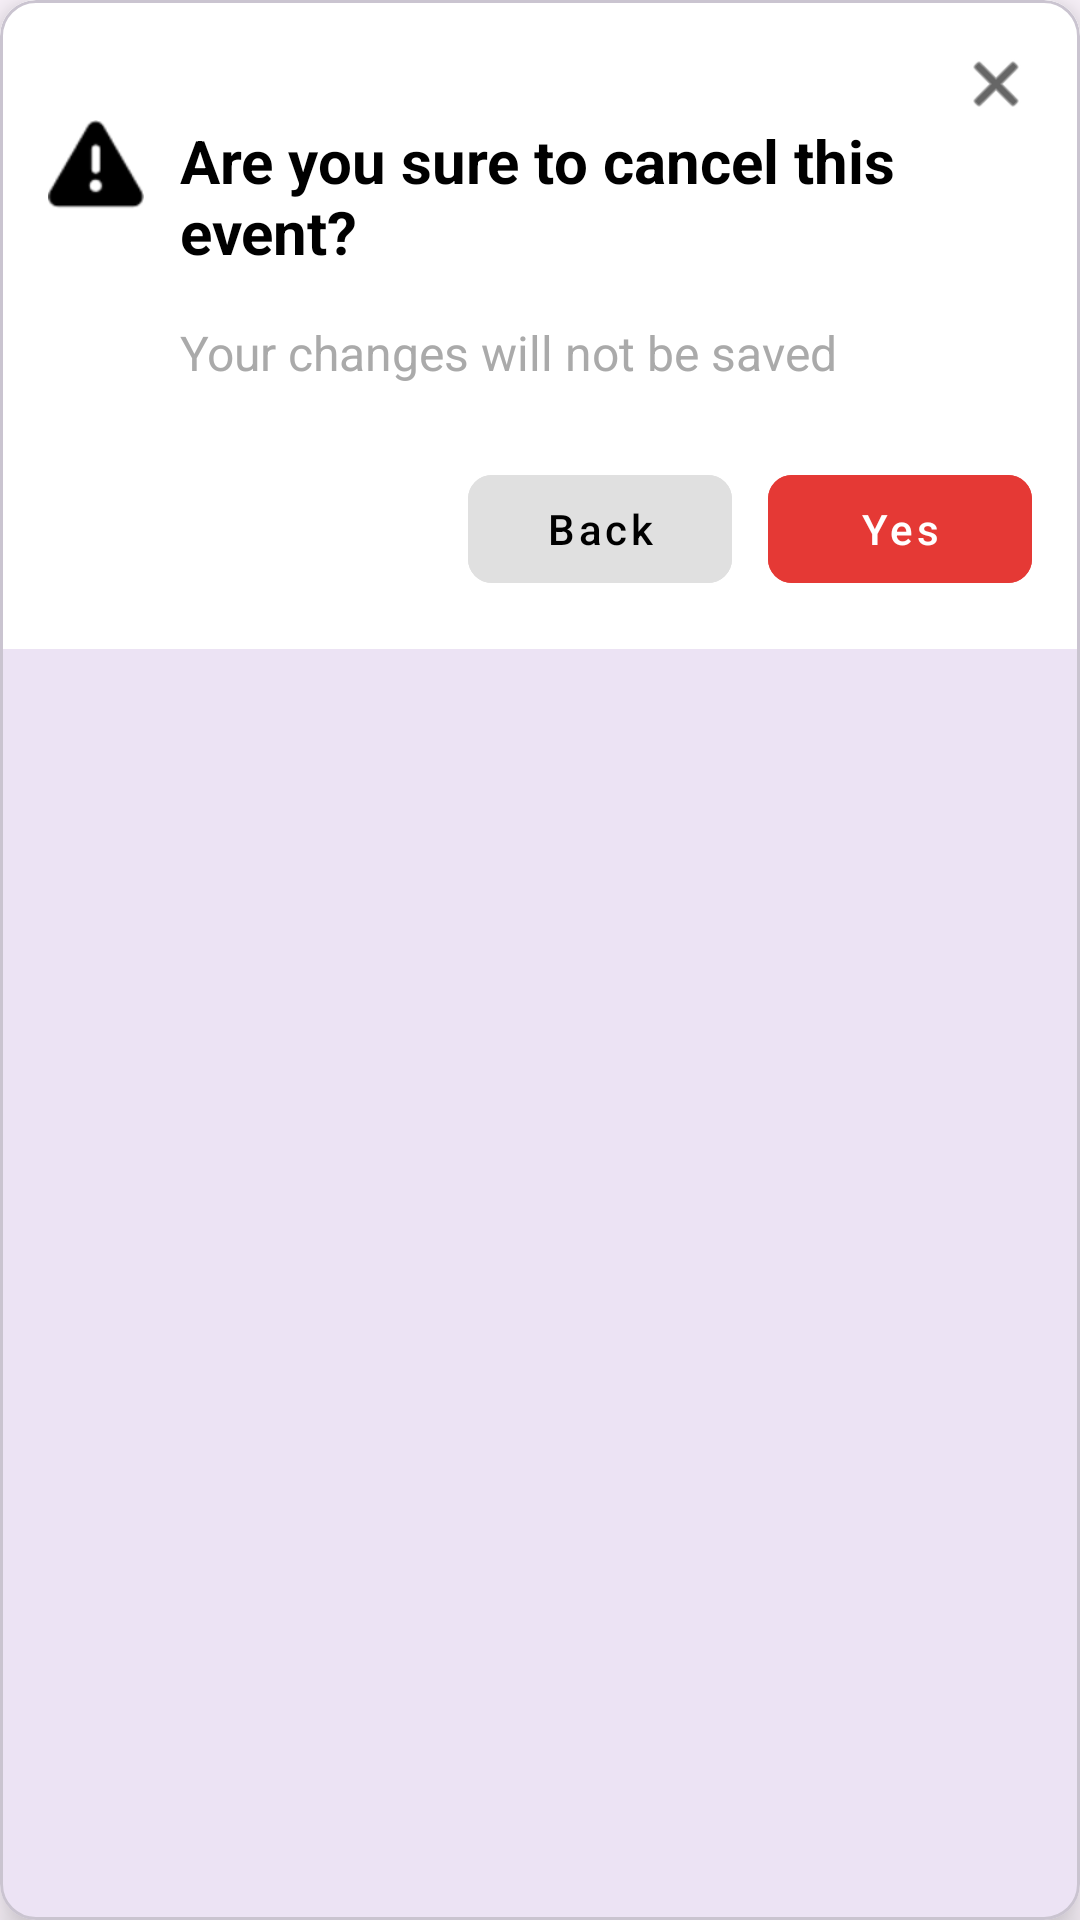

Where icons sit on this 1080 × 1920 app screen, as (x1, y1, x2, y2):
alert: (48, 120, 144, 208)
close clear cancel: (973, 61, 1019, 107)
